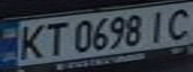0: (69, 17, 93, 54)
6: (90, 16, 112, 52)
8: (124, 11, 148, 47)
9: (106, 14, 130, 50)
C: (160, 4, 193, 40)
I: (142, 7, 172, 43)
K: (12, 21, 51, 61)
T: (36, 20, 69, 57)
